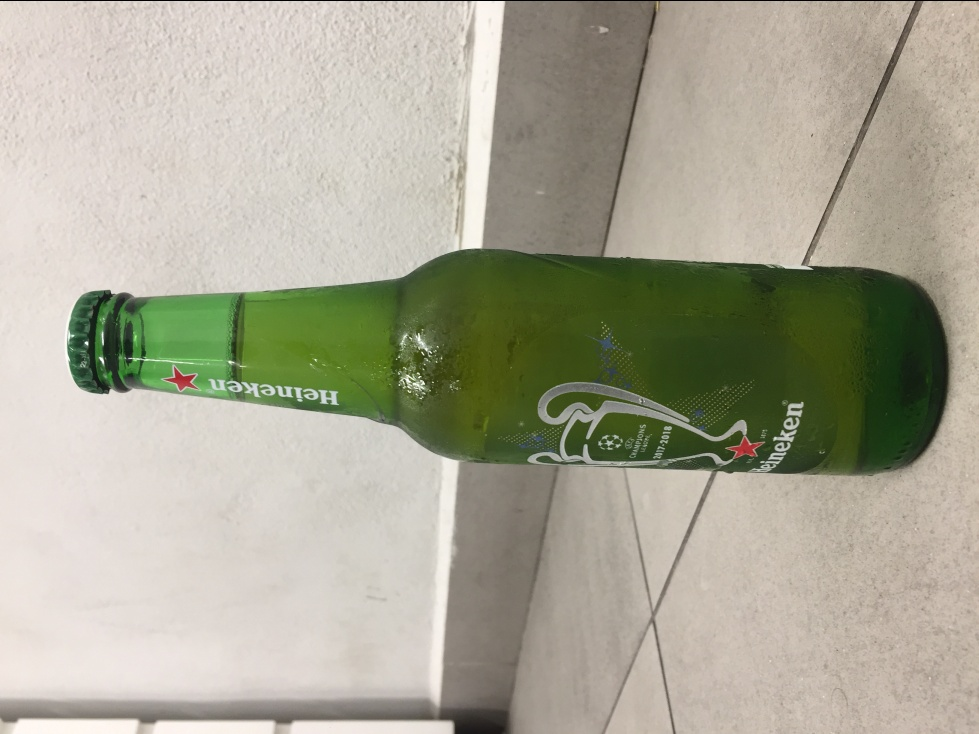heineken: (64, 246, 955, 479)
